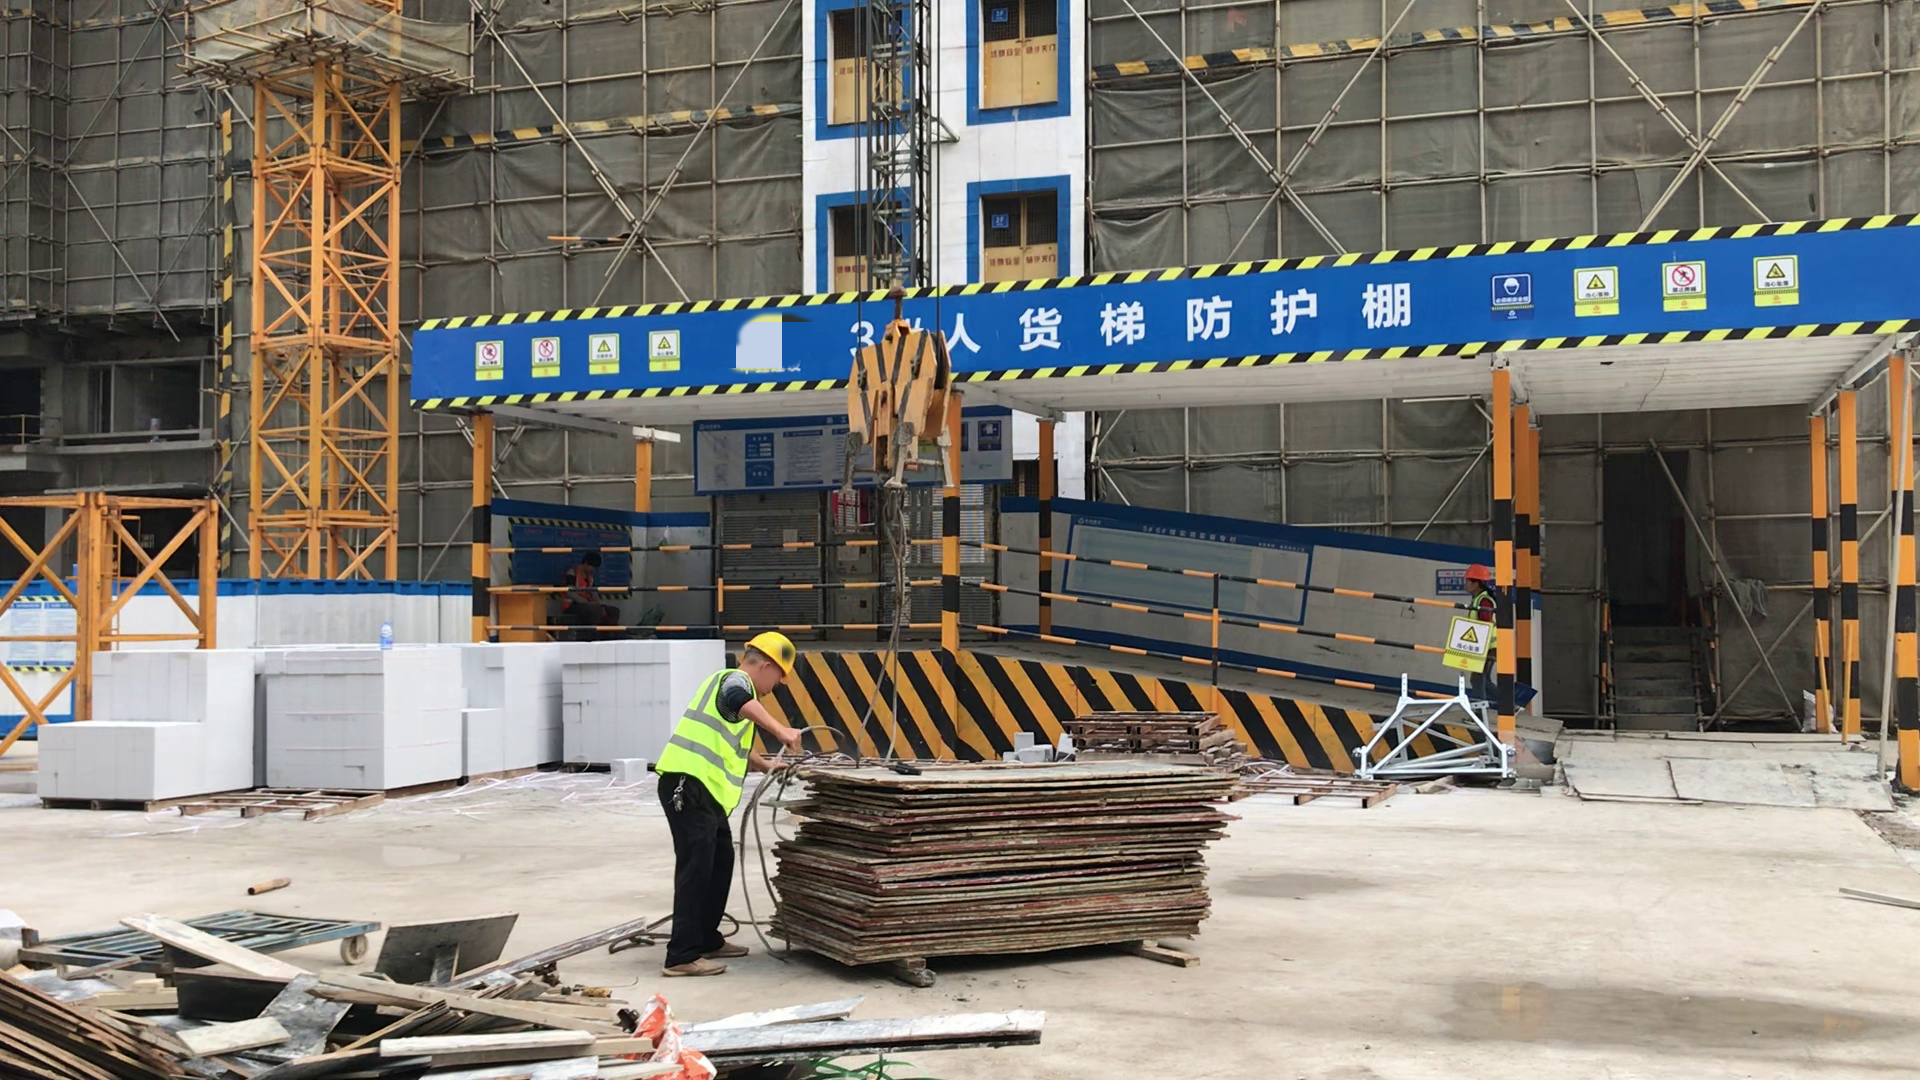board: (769, 765, 1244, 964)
brick: (1, 638, 722, 804)
helmet: (744, 625, 795, 675), (1462, 563, 1490, 582)
hook: (849, 318, 948, 493)
person: (656, 620, 800, 983), (1462, 563, 1503, 711)
slogan: (1490, 252, 1802, 324), (464, 331, 685, 385), (1445, 615, 1493, 678), (966, 418, 1010, 478), (1436, 570, 1464, 595)
vest: (658, 670, 748, 812), (1466, 594, 1496, 652)
